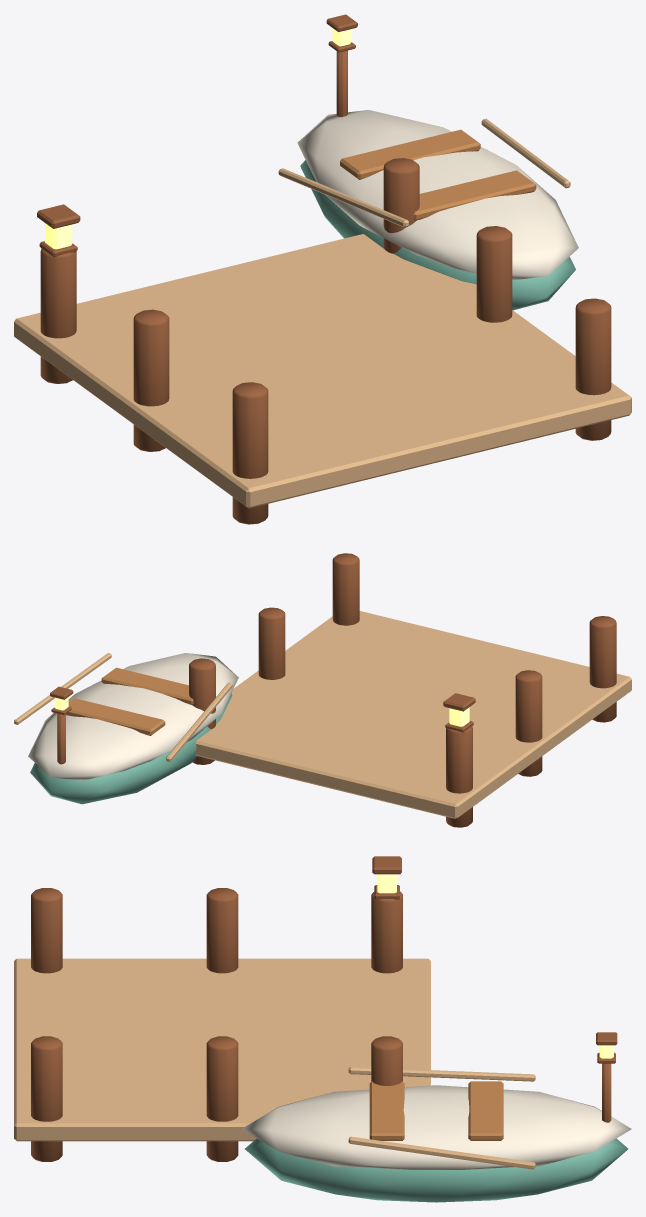
3 renders of one model, top to bottom at view 1: azimuth 30°, elevation 25°; view 2: azimuth 150°, elevation 25°; view 3: azimuth 270°, elevation 25°, orthographic. The views are drawn at different scales.
Visible parts, largest first — view 1: honey_wood, toasted_wood, Boat_Hull_Cream, warm_cedar, Boat_Hull_Mint, amber_glow; view 2: honey_wood, toasted_wood, Boat_Hull_Cream, Boat_Hull_Mint, warm_cedar, amber_glow; view 3: honey_wood, Boat_Hull_Cream, toasted_wood, Boat_Hull_Mint, warm_cedar, amber_glow.
Boxes of the visible parts, x1=… form: honey_wood: x1=14, y1=118, x2=631, y2=508; toasted_wood: x1=37, y1=14, x2=611, y2=524; Boat_Hull_Cream: x1=297, y1=110, x2=578, y2=280; warm_cedar: x1=340, y1=129, x2=536, y2=220; Boat_Hull_Mint: x1=300, y1=160, x2=575, y2=310; amber_glow: x1=45, y1=28, x2=351, y2=249; honey_wood: x1=14, y1=611, x2=631, y2=818; toasted_wood: x1=50, y1=553, x2=616, y2=827; Boat_Hull_Cream: x1=28, y1=653, x2=238, y2=780; Boat_Hull_Mint: x1=30, y1=693, x2=232, y2=804; warm_cedar: x1=66, y1=667, x2=193, y2=735; amber_glow: x1=54, y1=697, x2=469, y2=726; honey_wood: x1=14, y1=958, x2=535, y2=1169; Boat_Hull_Cream: x1=241, y1=1085, x2=631, y2=1170; toasted_wood: x1=31, y1=856, x2=617, y2=1161; Boat_Hull_Mint: x1=245, y1=1138, x2=628, y2=1202; warm_cedar: x1=369, y1=1081, x2=503, y2=1140; amber_glow: x1=377, y1=874, x2=613, y2=1058.
Bounding box in the file's own units: 4.98 × 1.55 × 5.63.
